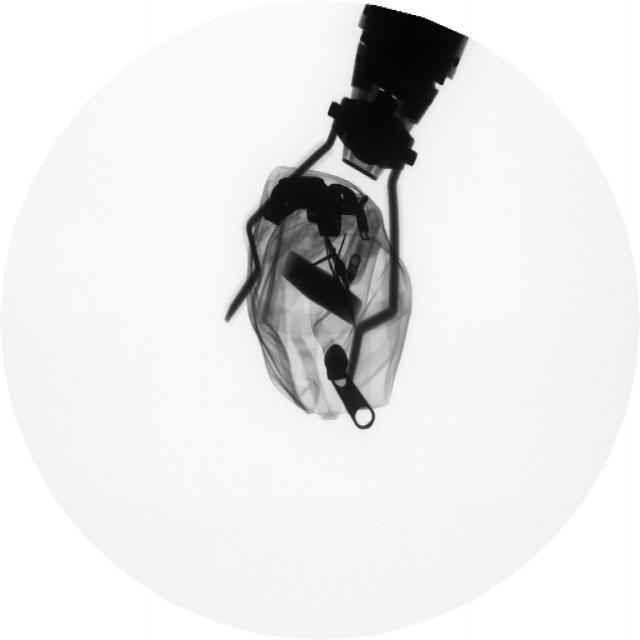BLADE: (327, 245, 339, 280)
